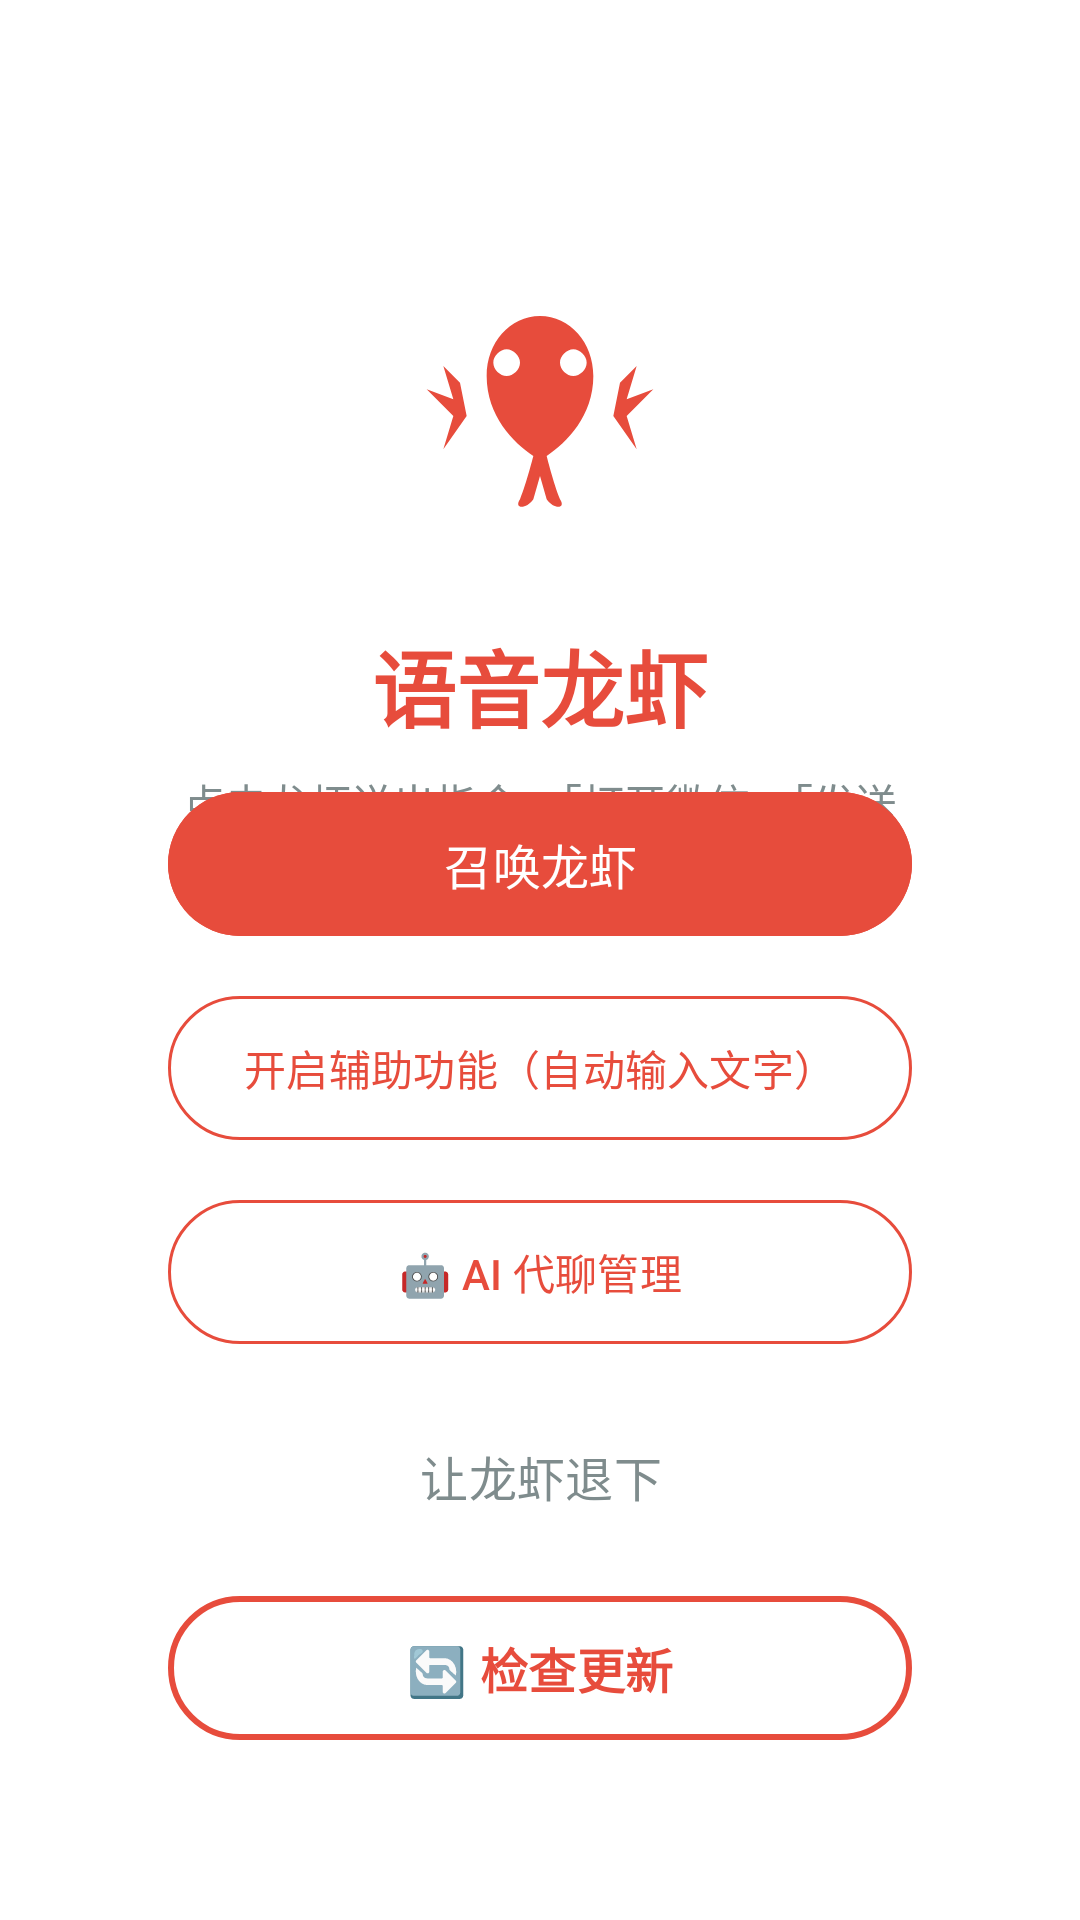

Named icons in this screenshot (1080px×1920px) and their centers, point (x, y):
lobster: point (540, 411)
